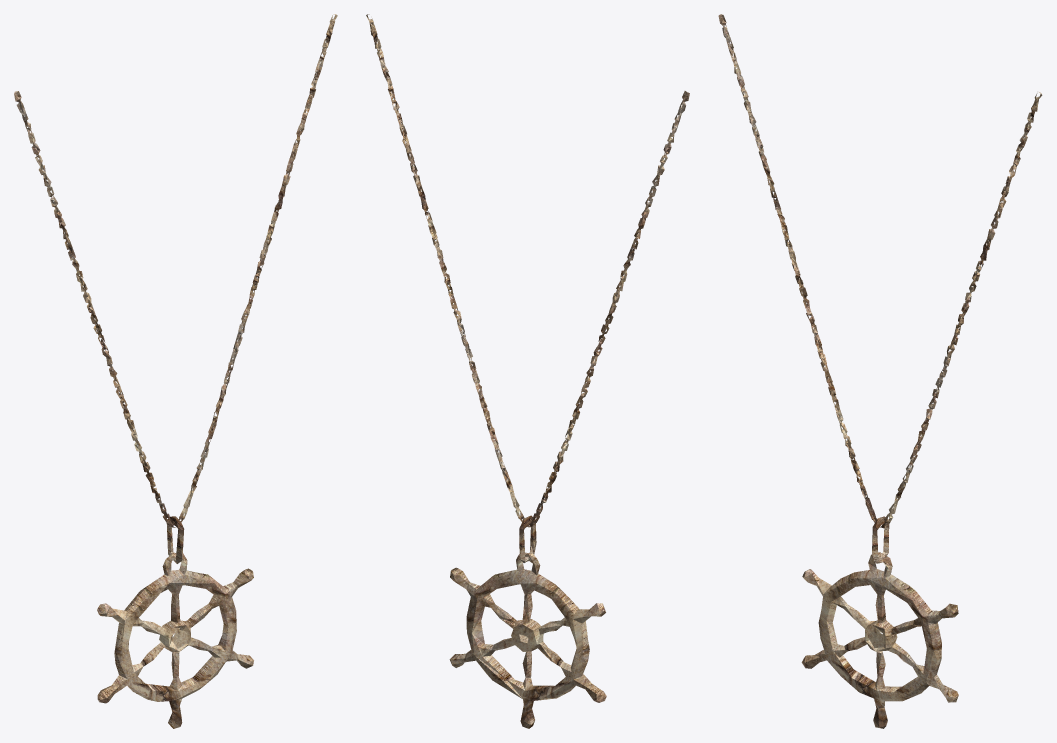
Rendered from Rool.fbx.
3 renders of one model, left to right at view 1: azimuth 30°, elevation 25°; view 2: azimuth 150°, elevation 25°; view 3: azimuth 330°, elevation 25°, orthographic.
Parts seen in each view (by area): view 1: Cylinder01_1; view 2: Cylinder01_1; view 3: Cylinder01_1.
Boxes of the visible parts, x1,y1,x2,y2 form: Cylinder01_1: (14,14,337,728); Cylinder01_1: (366,14,689,728); Cylinder01_1: (718,14,1042,728).
Size of the model in its own units: 351 by 700 by 27.6.
Materials: 1 (1 with a texture image).
